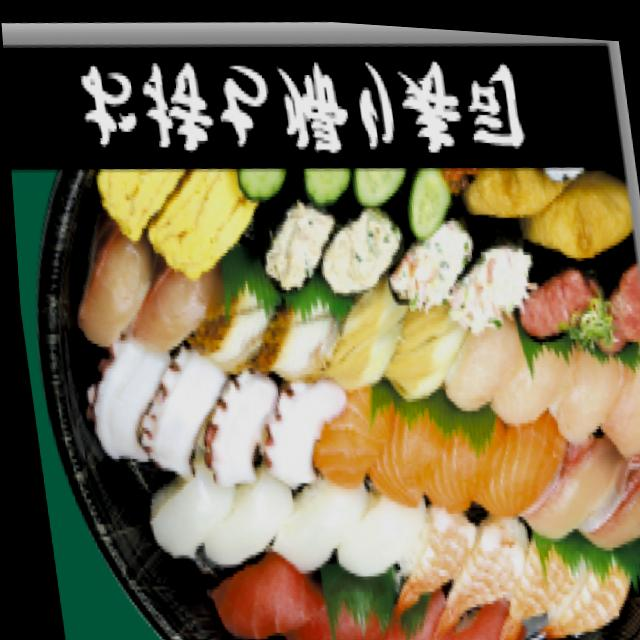寿司卷物: (6, 124, 640, 640)
